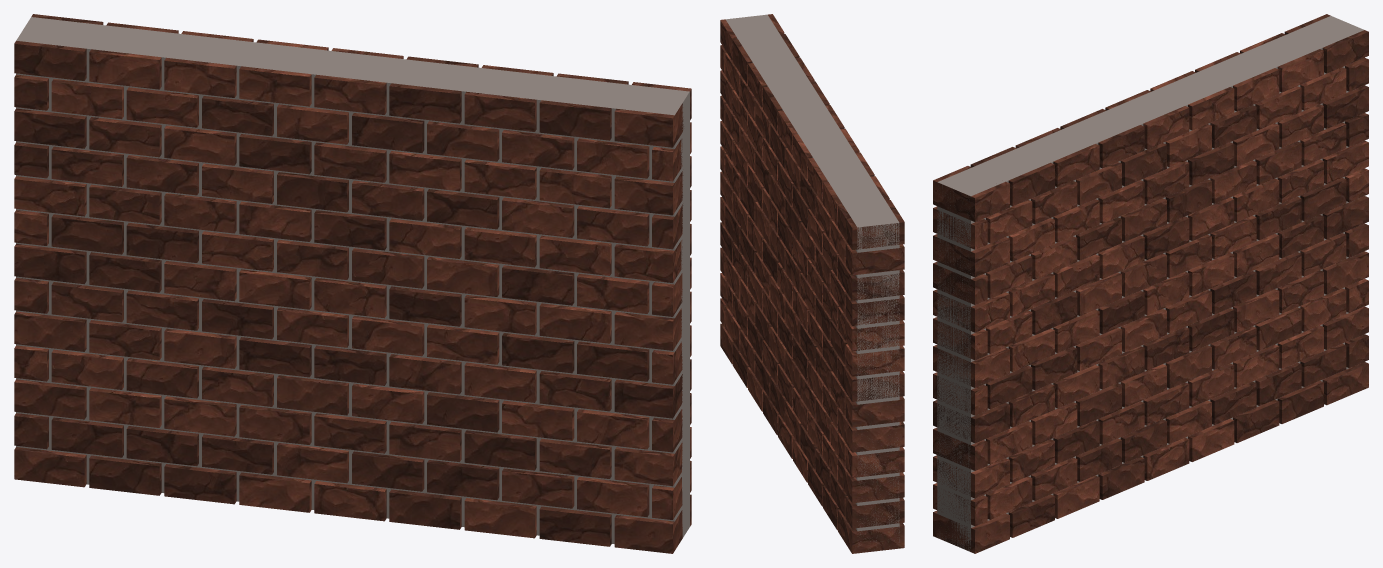
Rendered from wall_diagonal__clay_brick.glb.
3 renders of one model, left to right at view 1: azimuth 30°, elevation 25°; view 2: azimuth 150°, elevation 25°; view 3: azimuth 270°, elevation 25°, orthographic. The views are drawn at different scales.
Visible parts, largest first — view 1: model; view 2: model; view 3: model.
Boxes of the visible parts, box(x1,y1,x2,y2) form: model: box(14, 14, 691, 553); model: box(720, 14, 904, 553); model: box(933, 14, 1368, 553).
Size of the model in its own units: 2.2 by 1.98 by 2.2.
Materials: 4 (3 with a texture image).
